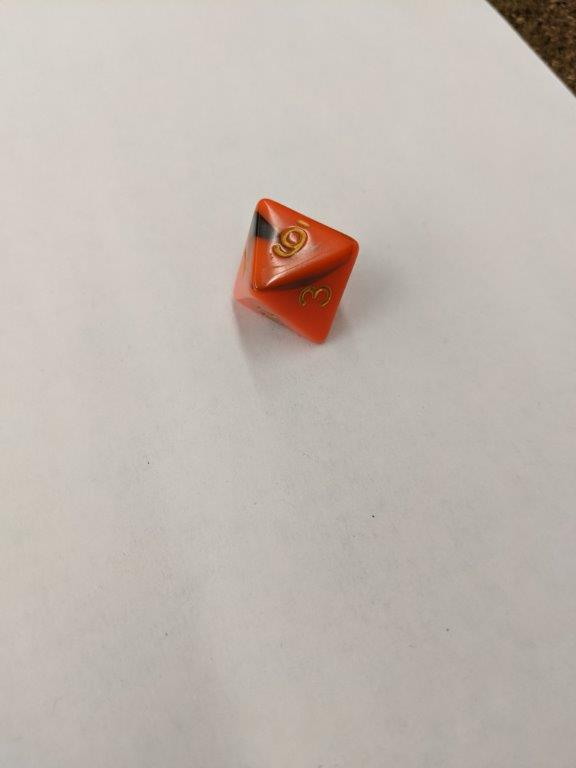d8-6: (228, 195, 361, 346)
